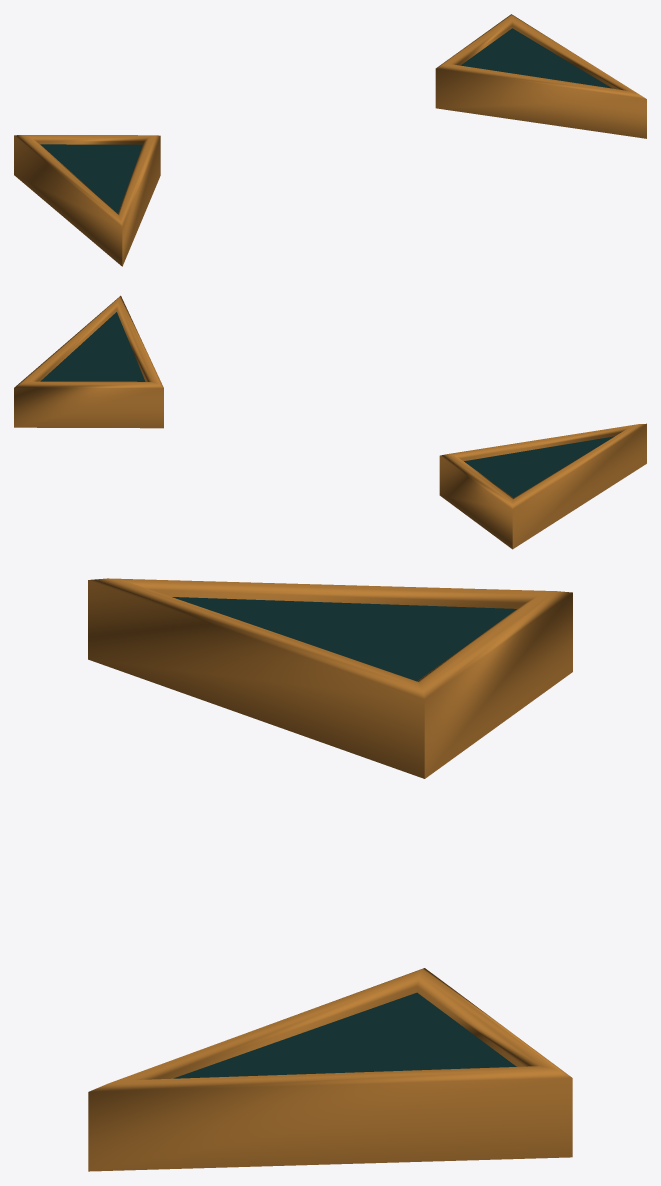
File: finale-plastics.dae
3 renders of one model, top to bottom at view 1: azimuth 30°, elevation 25°; view 2: azimuth 150°, elevation 25°; view 3: azimuth 270°, elevation 25°, orthographic. The views are drawn at different scales.
Visible parts, largest first — view 1: accent, block_art; view 2: accent, block_art; view 3: accent, block_art.
Part boxes in pixels (<box>): accent: <box>14,14,646,266</box>; block_art: <box>40,28,612,213</box>; accent: <box>14,295,646,549</box>; block_art: <box>40,312,614,498</box>; accent: <box>88,578,572,1171</box>; block_art: <box>172,597,516,1078</box>.
Size of the model in its own units: 0.359 by 0.0276 by 0.1437.
